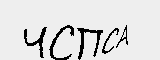А: (117, 24, 131, 49)
П: (79, 27, 102, 60)
С: (51, 25, 76, 60), (102, 27, 119, 54)
Ч: (21, 26, 48, 58)
